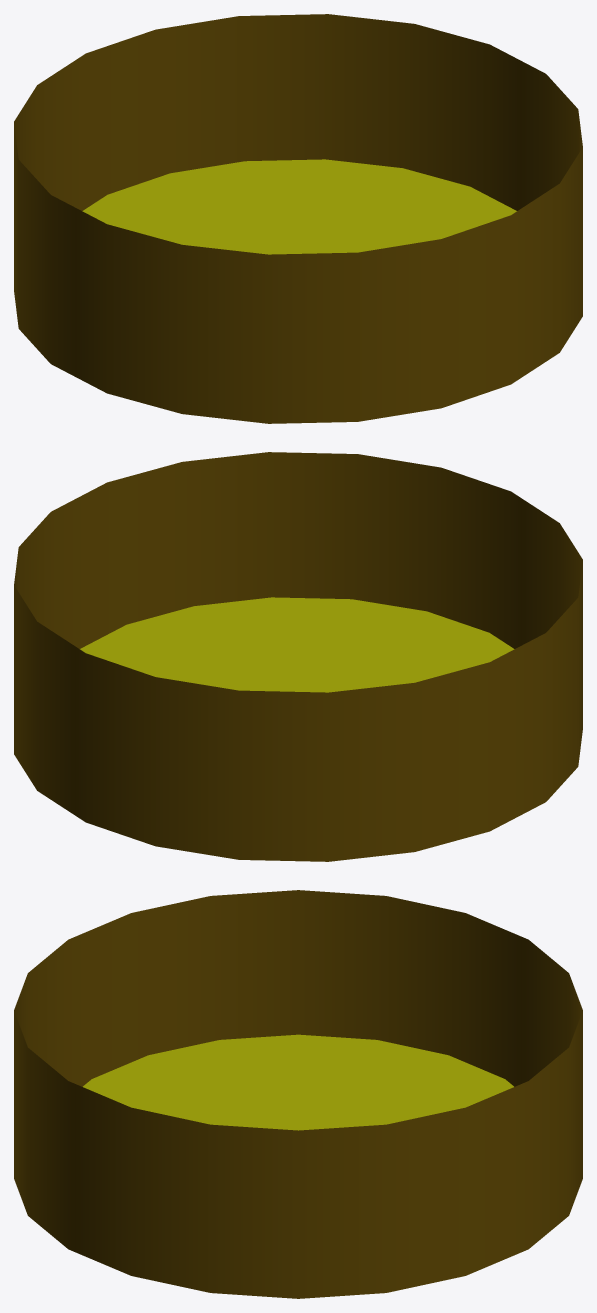
The model's file is Light_policePost.fbx.
The picture shows the model from 3 angles, top to bottom: view 1: azimuth 30°, elevation 25°; view 2: azimuth 150°, elevation 25°; view 3: azimuth 270°, elevation 25°; orthographic projection.
Visible parts, largest first — view 1: lights; view 2: lights; view 3: lights.
Part boxes in pixels (x1,y1,x2,y2): lights: [14, 14, 582, 423]; lights: [14, 452, 582, 861]; lights: [14, 890, 582, 1298].
Bounding box in the file's own units: 26.32 × 8.6 × 26.32.
